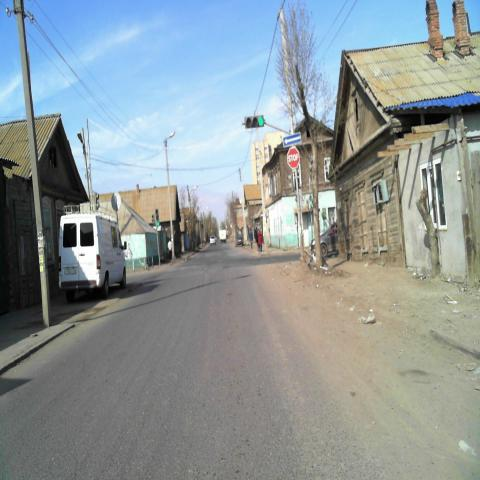2_5: (287, 146, 300, 168)
5_7_2: (283, 132, 301, 146)
